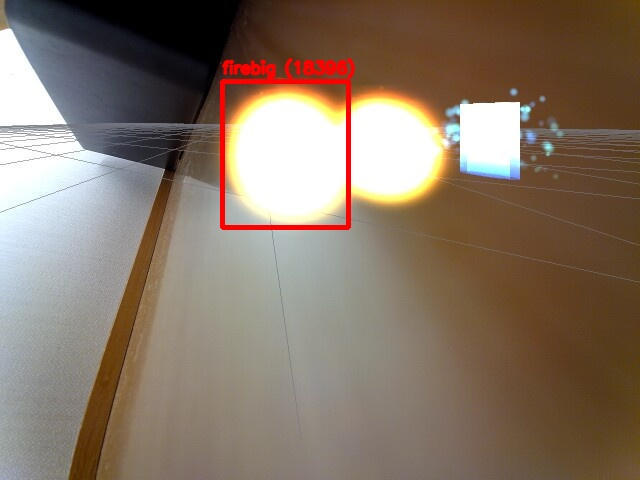firebig: (222, 81, 348, 227)
